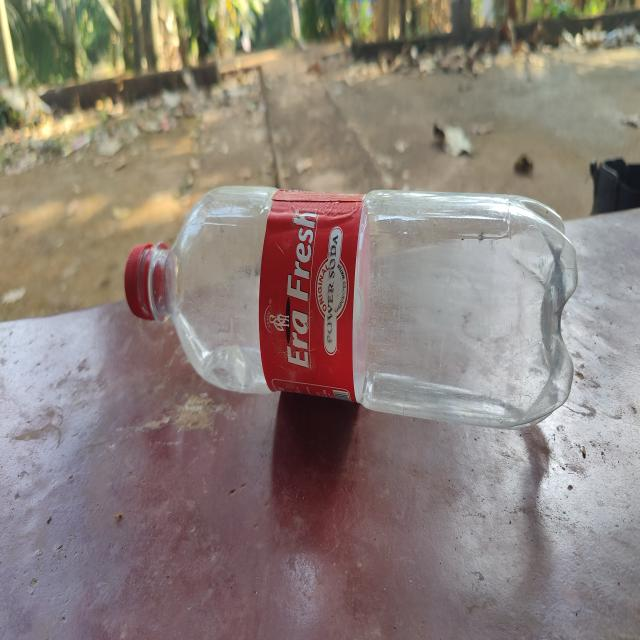plastic: (125, 181, 583, 431)
